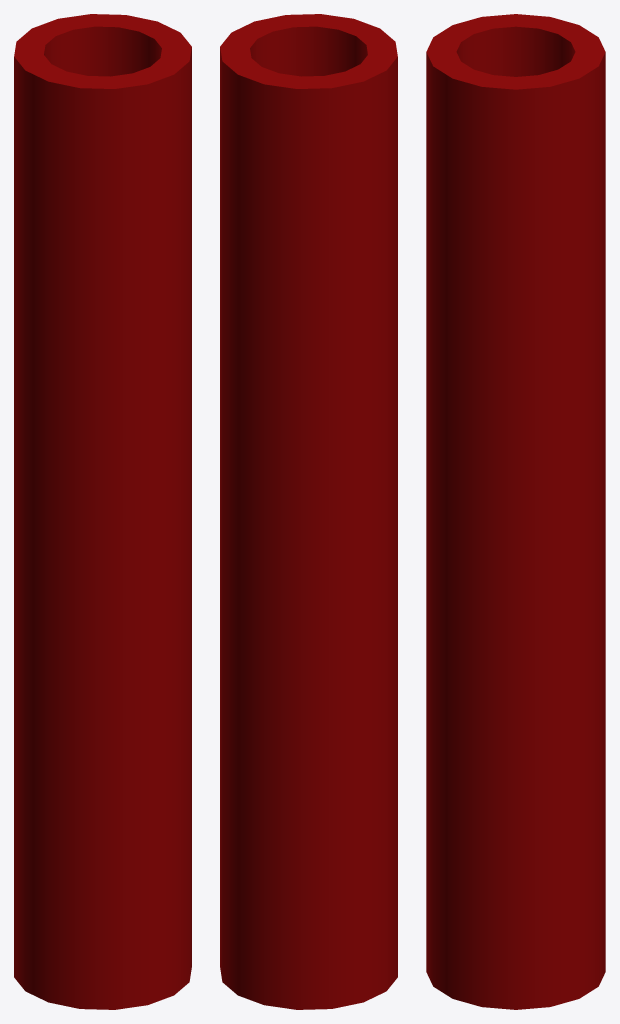
Rendered from SM_Actuator_1x1x6_Bottom.gltf.
3 renders of one model, left to right at view 1: azimuth 30°, elevation 25°; view 2: azimuth 150°, elevation 25°; view 3: azimuth 270°, elevation 25°, orthographic.
Visible parts, largest first — view 1: SM_Actuator_1x1x6_Bottom; view 2: SM_Actuator_1x1x6_Bottom; view 3: SM_Actuator_1x1x6_Bottom.
Boxes of the visible parts, box(x1,y1,x2,y2) form: SM_Actuator_1x1x6_Bottom: box(14, 14, 191, 1009); SM_Actuator_1x1x6_Bottom: box(220, 14, 397, 1009); SM_Actuator_1x1x6_Bottom: box(426, 14, 605, 1009).
Size of the model in its own units: 0.3 by 1.7 by 0.3.
